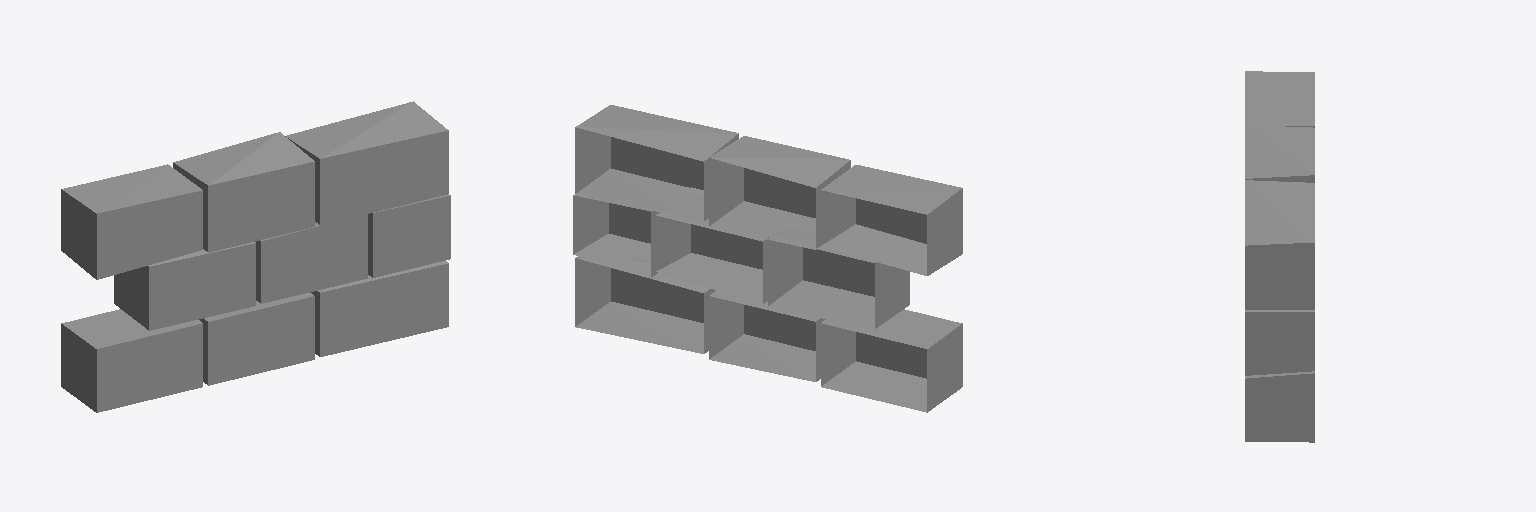
The model's file is Bricks_LeftStraight.obj.
3 renders of one model, left to right at view 1: azimuth 30°, elevation 25°; view 2: azimuth 150°, elevation 25°; view 3: azimuth 270°, elevation 25°, orthographic.
Parts seen in each view (by area): view 1: Bricks_LeftStraight_Cube.017; view 2: Bricks_LeftStraight_Cube.017; view 3: Bricks_LeftStraight_Cube.017.
Boxes of the visible parts, x1=… form: Bricks_LeftStraight_Cube.017: x1=61, y1=101, x2=450, y2=412; Bricks_LeftStraight_Cube.017: x1=573, y1=105, x2=962, y2=412; Bricks_LeftStraight_Cube.017: x1=1245, y1=71, x2=1314, y2=442.
Bounding box in the file's own units: 0.7915 × 0.4318 × 0.1364.